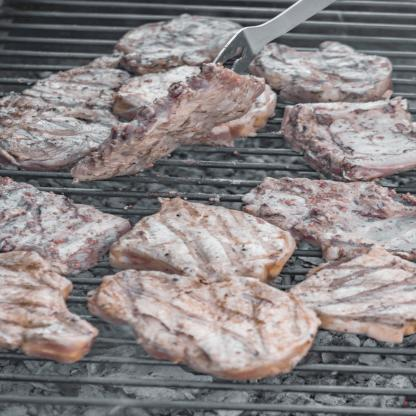Carne: (92, 268, 333, 373), (80, 64, 282, 185), (112, 198, 298, 279), (263, 172, 415, 256), (0, 175, 129, 267), (287, 250, 416, 338), (0, 60, 111, 159), (0, 249, 107, 350), (299, 102, 416, 174), (256, 45, 409, 93), (110, 14, 226, 62)
